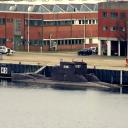submarine: (13, 62, 113, 91), (73, 62, 124, 88)
